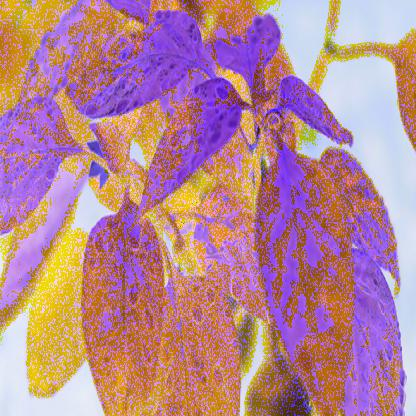bell pepper leaf: (255, 155, 356, 408), (79, 202, 168, 415), (65, 11, 209, 120), (135, 73, 245, 214), (193, 183, 275, 338), (320, 139, 402, 294), (161, 273, 243, 415), (345, 239, 407, 415), (1, 100, 79, 234), (279, 68, 358, 149), (212, 24, 283, 74)
